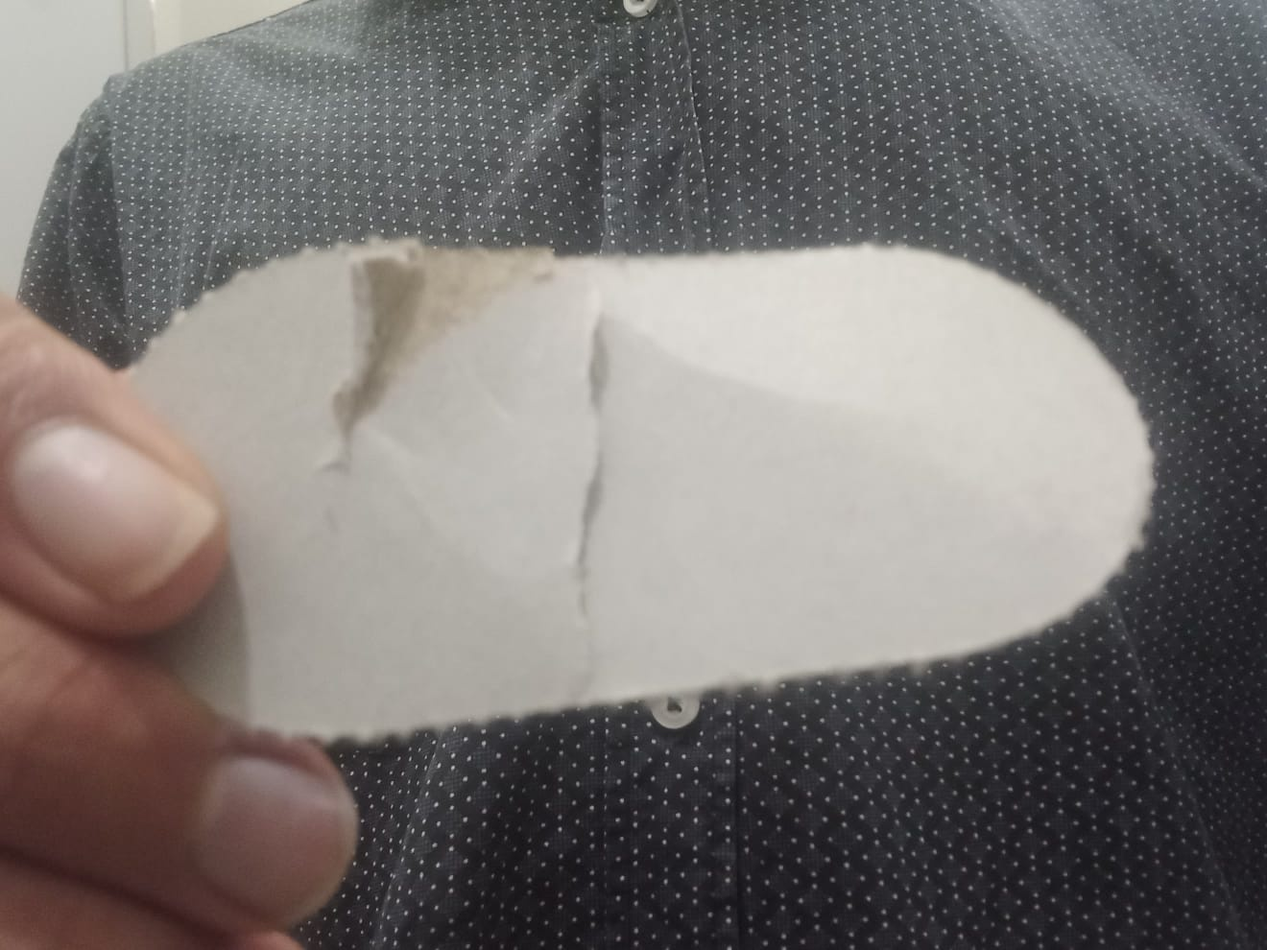Papel: (111, 240, 1154, 742)
